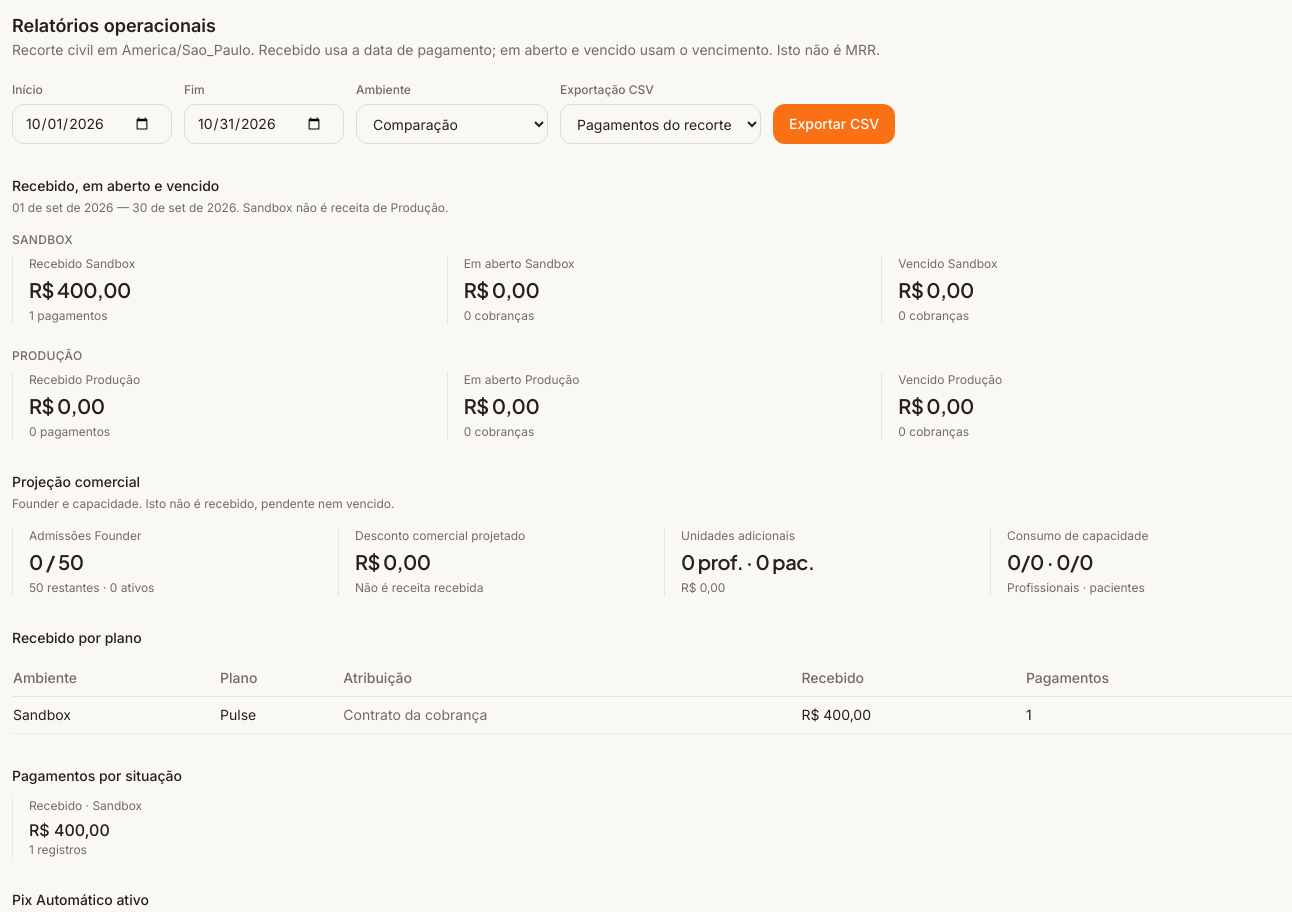
Test: PlatformBillingReportsPage › production filter hides Sandbox financial headlines
Select "Produção" in the dropdown labelled "Ambiente": point(452, 124) [356,104,548,144]
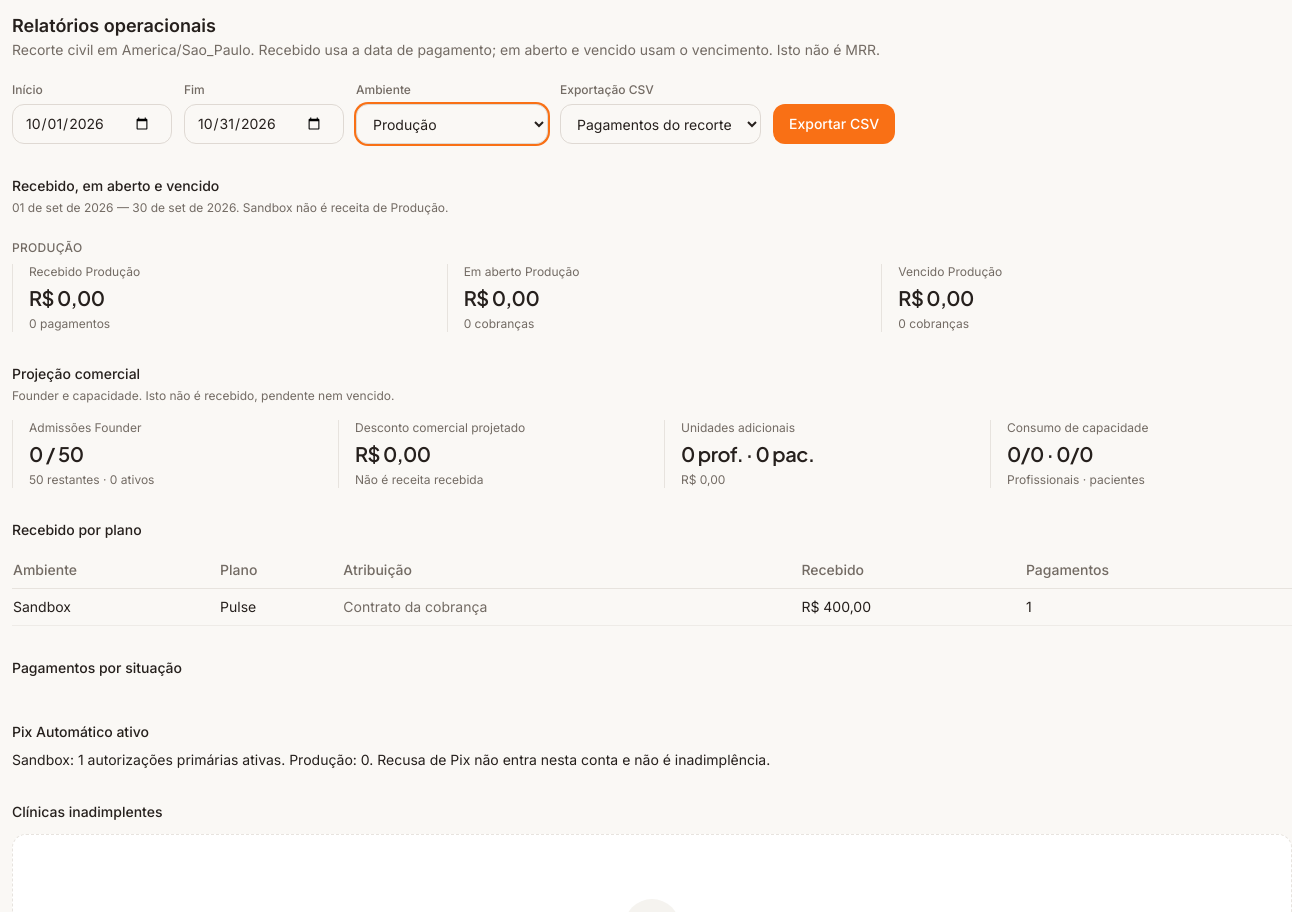
Expected: the text "Recebido Produção" is shown, [29,264,140,279]
Now the text "Recebido Sandbox" is gone
